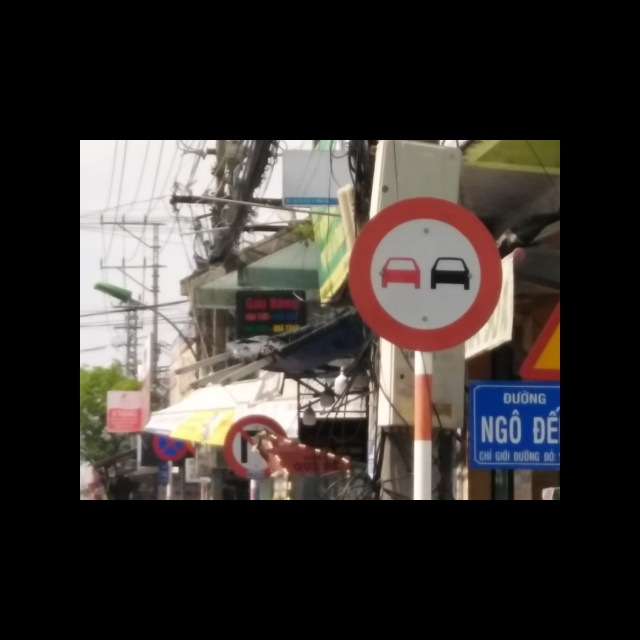Cấm vượt: (347, 196, 510, 348)
